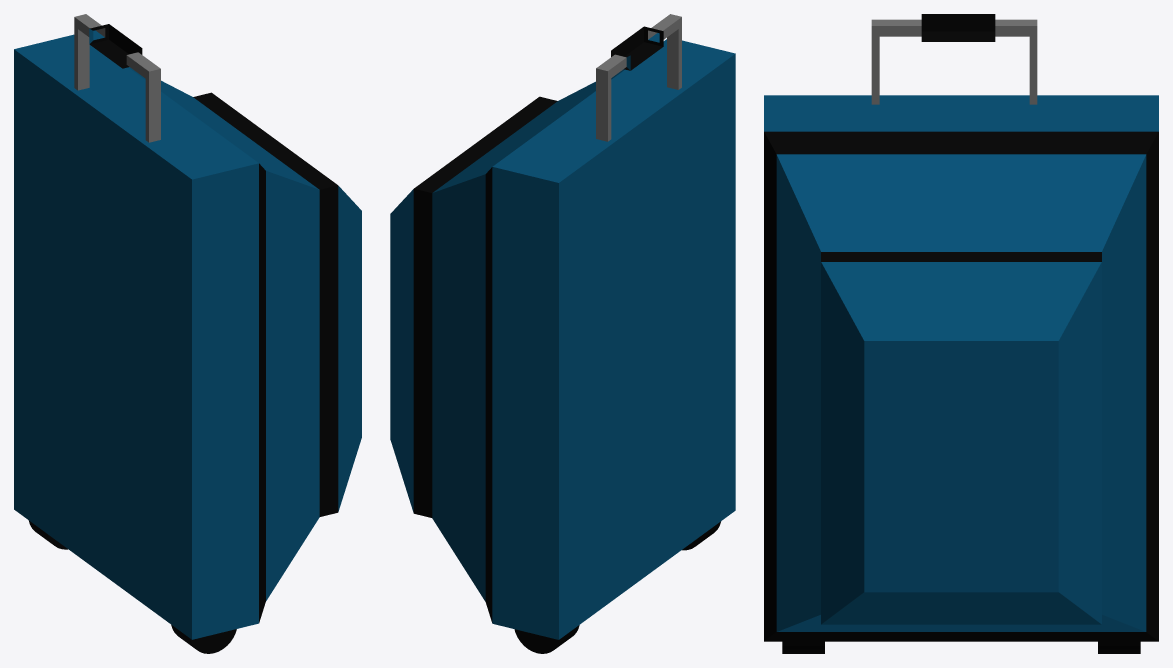
The model's file is Luggage_part2.fbx.
3 renders of one model, left to right at view 1: azimuth 30°, elevation 25°; view 2: azimuth 150°, elevation 25°; view 3: azimuth 270°, elevation 25°, orthographic. The views are drawn at different scales.
Parts seen in each view (by area): view 1: Cube; view 2: Cube; view 3: Cube.
Part boxes in pixels (x1,y1,x2,y2): Cube: [14, 14, 361, 653]; Cube: [390, 14, 735, 653]; Cube: [764, 14, 1158, 653].
Bounding box in the file's own units: 349 × 869 × 500.
